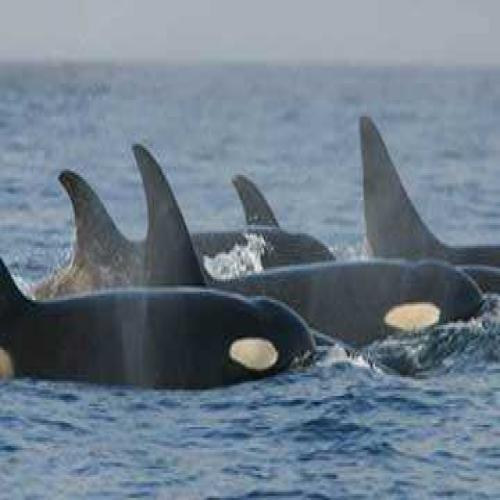killer_whale-endangered: (112, 115, 482, 378), (0, 202, 315, 421), (50, 138, 347, 330), (333, 81, 500, 306)
